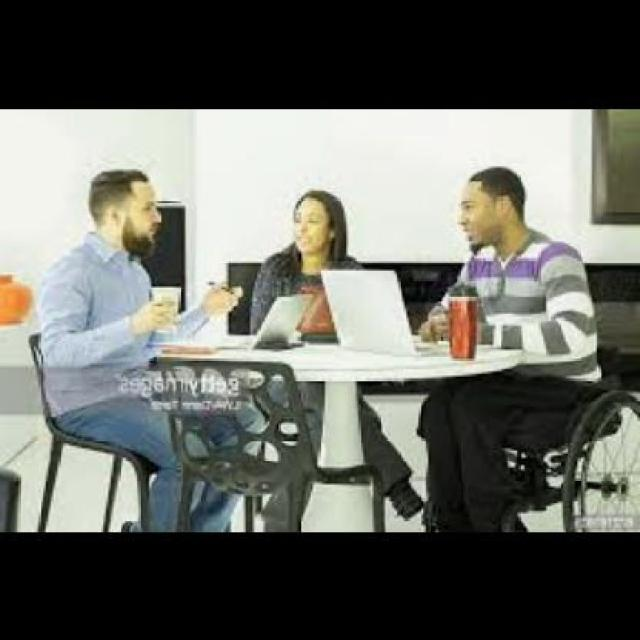wheelchairs: (436, 326, 637, 532)
